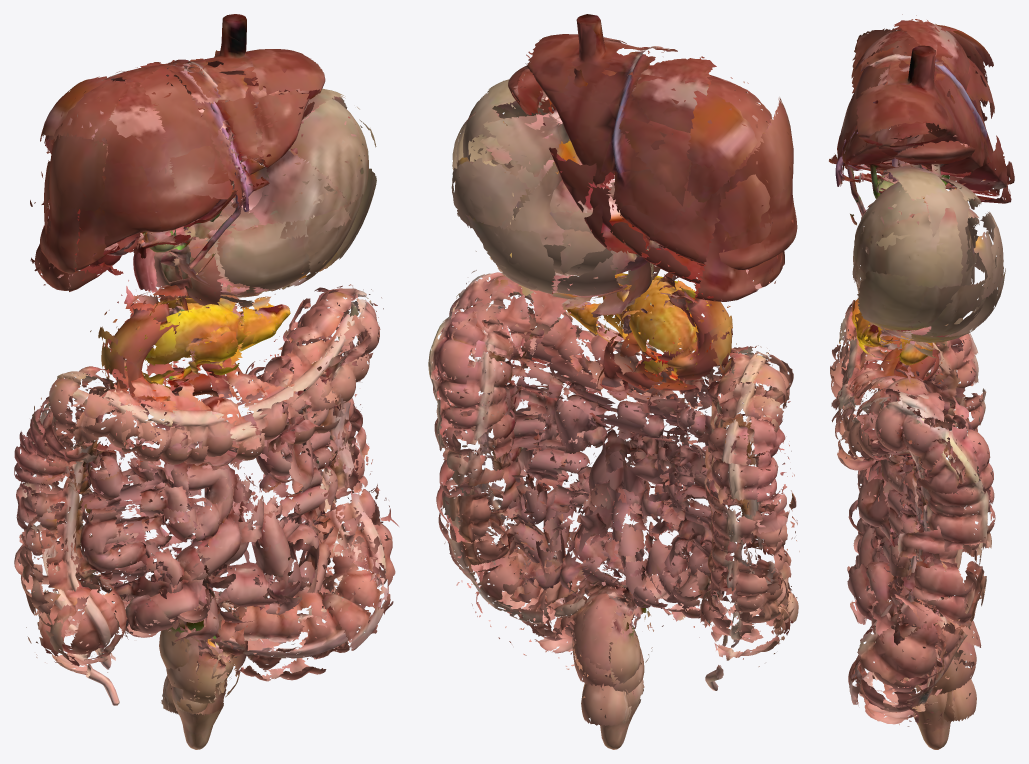
Rendered from digestive-system.mobile.glb.
The picture shows the model from 3 angles, left to right: view 1: azimuth 30°, elevation 25°; view 2: azimuth 150°, elevation 25°; view 3: azimuth 270°, elevation 25°; orthographic projection.
Visible parts, largest first — view 1: Object_5, Object_7, Object_6, Object_8, Object_4, Object_9; view 2: Object_4, Object_8, Object_5, Object_7, Object_6, Object_9; view 3: Object_5, Object_8, Object_4, Object_6, Object_7, Object_9.
Boxes of the visible parts, box(x1,y1,x2,y2) form: Object_5: box(16, 50, 395, 711); Object_7: box(14, 58, 387, 714); Object_6: box(20, 83, 393, 703); Object_8: box(25, 14, 398, 749); Object_4: box(14, 90, 379, 687); Object_9: box(26, 78, 372, 705); Object_4: box(428, 65, 785, 688); Object_8: box(445, 14, 799, 749); Object_5: box(439, 61, 793, 725); Object_7: box(436, 69, 794, 723); Object_6: box(435, 99, 798, 694); Object_9: box(444, 86, 790, 693); Object_5: box(829, 27, 1014, 721); Object_8: box(851, 14, 995, 749); Object_4: box(836, 135, 1006, 715); Object_6: box(831, 57, 1011, 724); Object_7: box(837, 25, 1005, 721); Object_9: box(895, 122, 945, 726).
Bounding box in the file's own units: 31459 × 62351 × 14748.
Materials: 1 (1 with a texture image).
